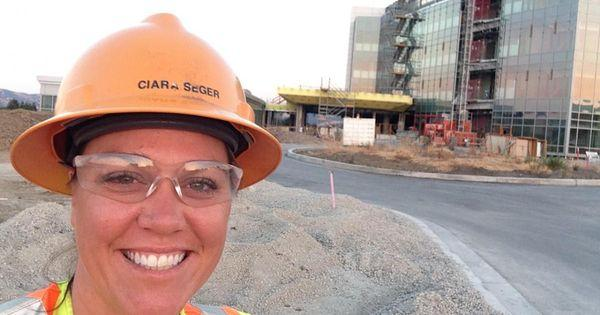helmet: (6, 19, 278, 192)
